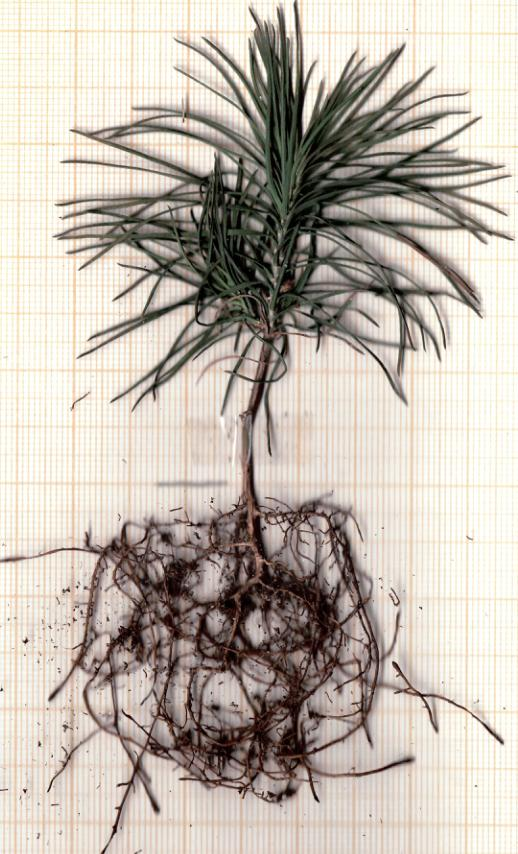flower: (50, 6, 516, 418)
root: (68, 493, 408, 800)
stem: (223, 341, 291, 497)
